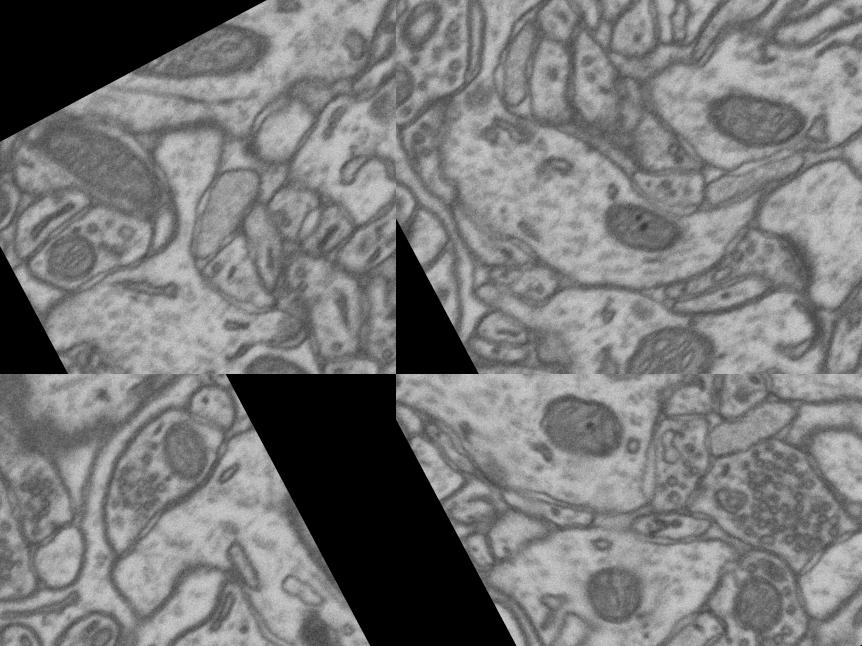mitochondria: (15, 76, 188, 260), (109, 5, 285, 139), (249, 479, 367, 646), (680, 52, 820, 188), (525, 374, 645, 489), (587, 171, 701, 280), (567, 544, 672, 646), (600, 305, 740, 374), (707, 557, 806, 646), (142, 404, 227, 496), (25, 219, 112, 301), (223, 329, 339, 374), (396, 41, 429, 138), (0, 147, 27, 238)
